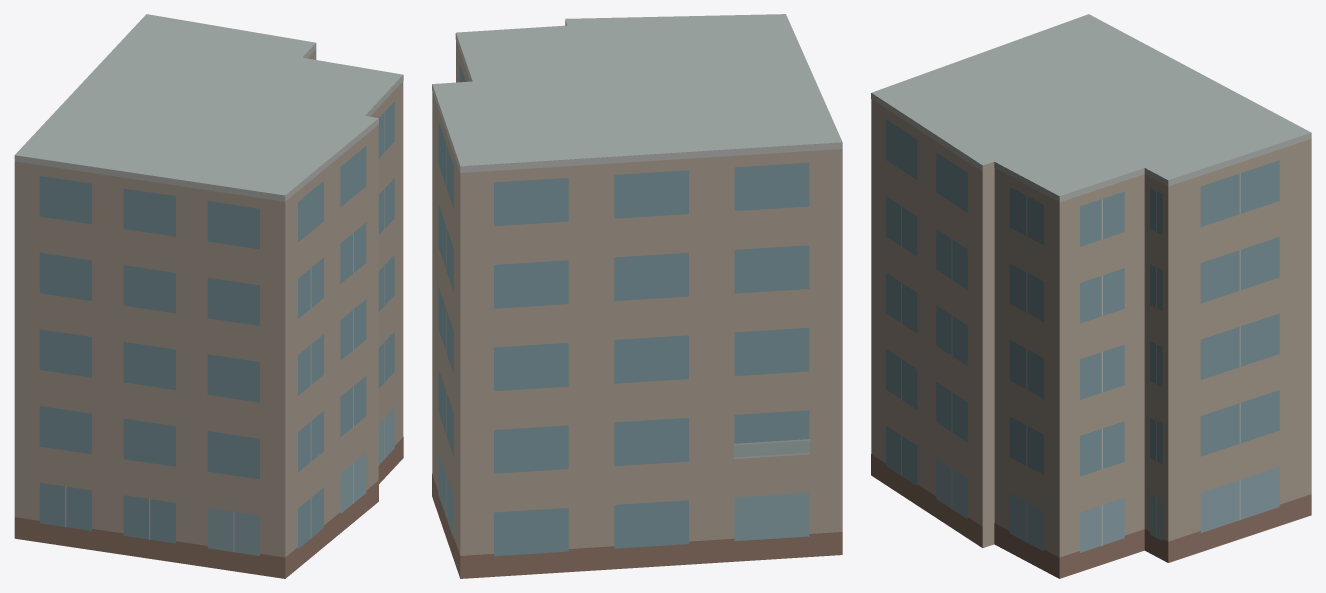
File: survey-upis-32908611.glb
3 renders of one model, left to right at view 1: azimuth 30°, elevation 25°; view 2: azimuth 150°, elevation 25°; view 3: azimuth 270°, elevation 25°, orthographic. The views are drawn at different scales.
Visible parts, largest first — view 1: survey-upis-32908611.tmp; view 2: survey-upis-32908611.tmp; view 3: survey-upis-32908611.tmp.
Part boxes in pixels (left/top/right/bottom): survey-upis-32908611.tmp: left=14, top=14, right=403, bottom=578; survey-upis-32908611.tmp: left=432, top=14, right=842, bottom=578; survey-upis-32908611.tmp: left=871, top=14, right=1311, bottom=578.
Bounding box in the file's own units: 15.39 × 15.06 × 15.72.
